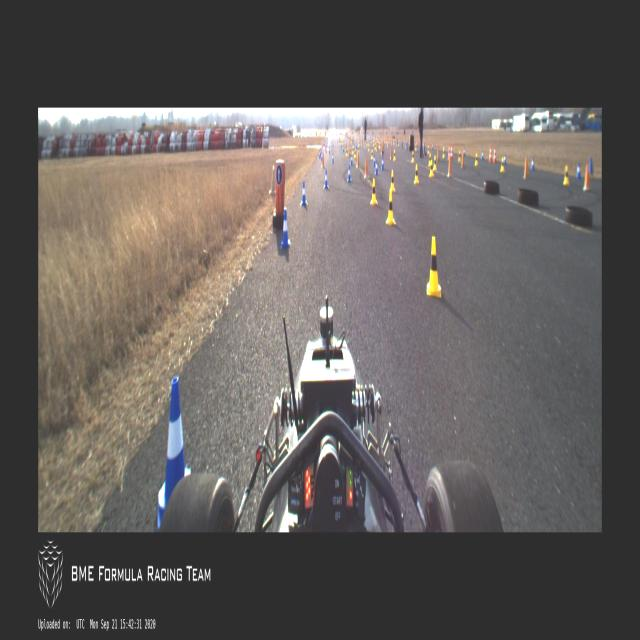blue_cone: (158, 375, 190, 523), (280, 208, 290, 248), (301, 182, 307, 206), (323, 170, 329, 188), (348, 165, 352, 182), (576, 163, 580, 179), (530, 155, 534, 171), (375, 160, 379, 176), (381, 155, 385, 171), (502, 153, 507, 165), (373, 154, 375, 166), (350, 154, 352, 166), (332, 152, 334, 164), (328, 146, 331, 154), (481, 150, 483, 161), (423, 142, 425, 152), (320, 151, 322, 161), (406, 140, 408, 149), (464, 148, 466, 156), (318, 150, 320, 158), (432, 144, 434, 150), (332, 141, 334, 147), (323, 141, 325, 147), (343, 144, 344, 152)
large_orange_cone: (450, 144, 454, 161), (493, 146, 497, 163), (488, 146, 492, 162), (448, 144, 450, 160)
yellow_cone: (427, 238, 441, 298), (386, 189, 396, 225), (370, 180, 378, 206), (390, 170, 396, 193), (564, 164, 570, 183), (429, 160, 434, 176), (414, 167, 418, 184), (433, 155, 437, 171), (500, 156, 504, 172), (392, 150, 397, 162), (474, 152, 478, 166), (411, 151, 415, 163), (458, 150, 461, 162), (442, 146, 445, 158), (429, 152, 431, 166), (371, 148, 373, 160), (428, 146, 430, 156), (346, 148, 348, 157), (354, 150, 356, 158), (352, 146, 354, 154), (368, 144, 370, 152), (415, 143, 417, 151), (358, 144, 360, 152), (366, 139, 368, 146), (397, 139, 399, 146), (379, 142, 381, 148), (392, 138, 394, 144), (384, 138, 386, 144), (375, 142, 376, 150), (373, 140, 374, 146), (388, 138, 389, 144)
